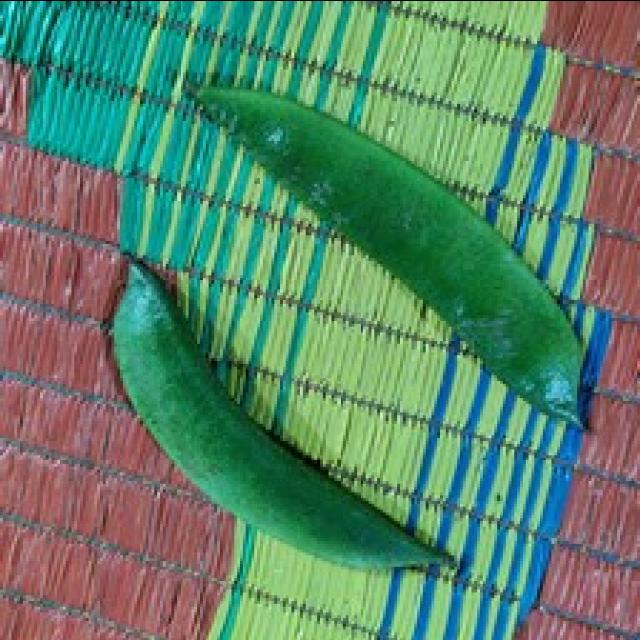organik: (56, 79, 594, 580)
